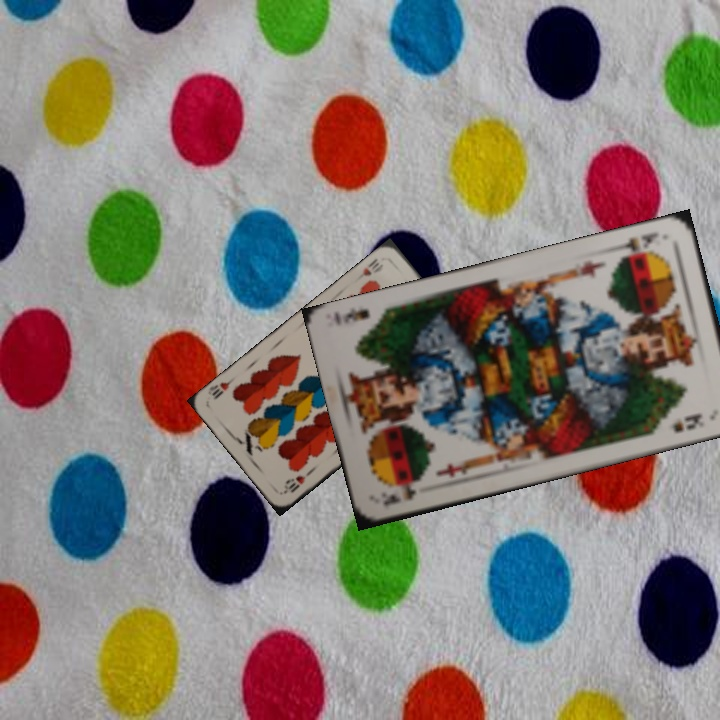H10: (280, 466, 315, 496), (351, 254, 386, 284)
SK: (611, 228, 662, 262), (379, 477, 425, 509)
